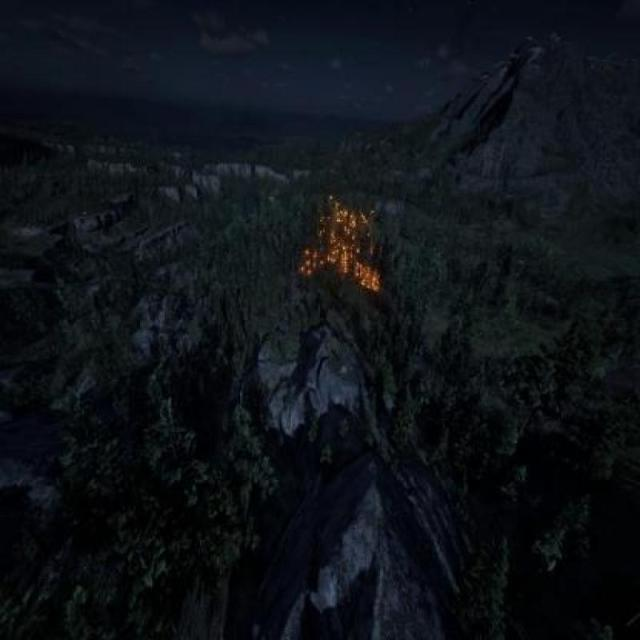Fire: (296, 189, 381, 289)
